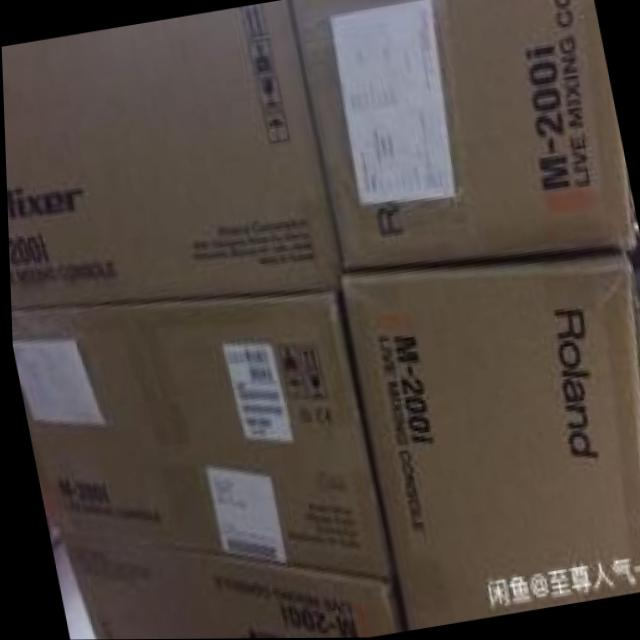box: (339, 249, 640, 631), (9, 287, 390, 579), (1, 0, 342, 312), (292, 0, 634, 269), (59, 534, 401, 640)
